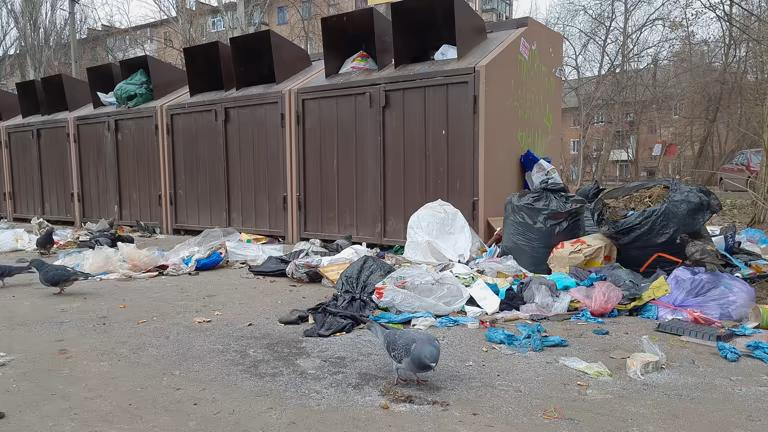trash: (402, 152, 767, 372), (278, 217, 503, 346), (43, 227, 254, 287), (257, 228, 353, 288), (30, 214, 124, 254), (617, 332, 669, 395), (472, 322, 572, 352), (552, 347, 609, 383), (115, 67, 163, 108), (3, 211, 37, 262), (336, 42, 385, 77), (428, 40, 463, 65), (95, 81, 123, 112)
trash_can_overflow: (0, 9, 583, 307)
